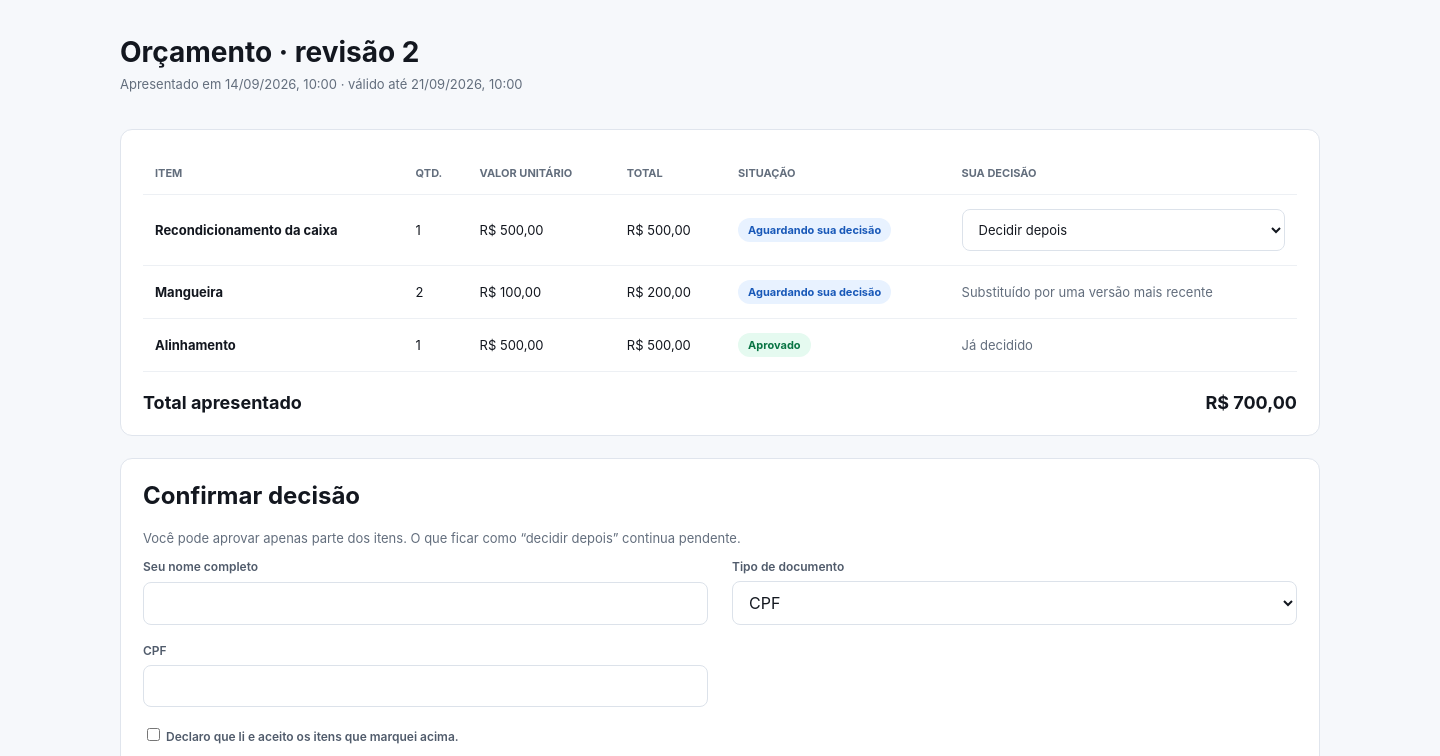
Test: replay reconhecido pelo backend é informado sem alarme
Select "Recusar" in the dropdown named "Decisão para Recondicionamento da caixa" at x=1123, y=230, box left=962, top=209, right=1285, bottom=251
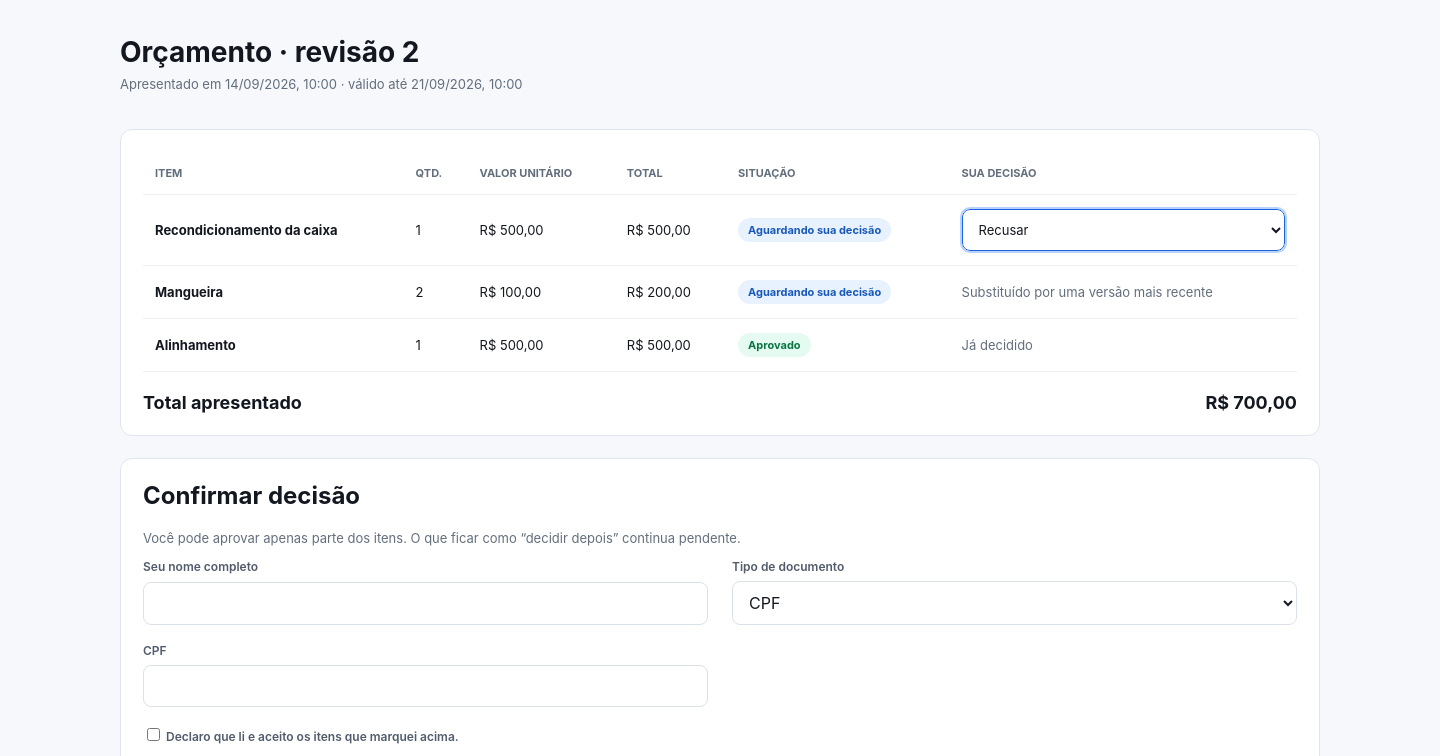
Type "José da Silva" into the field labelled "Seu nome completo" at x=426, y=603, box left=143, top=582, right=708, bottom=625
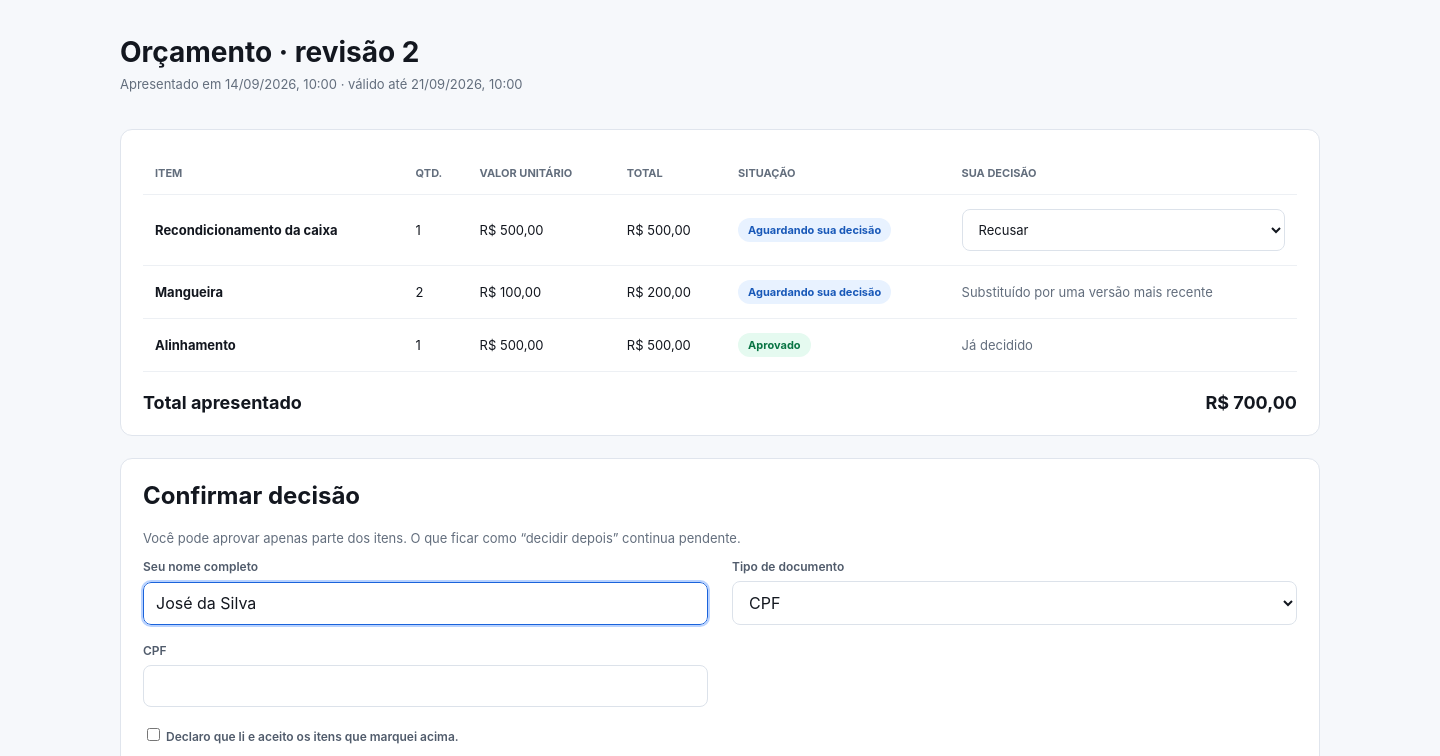
Type "12345678901" into the field labelled "CPF" at x=426, y=686, box left=143, top=665, right=708, bottom=707
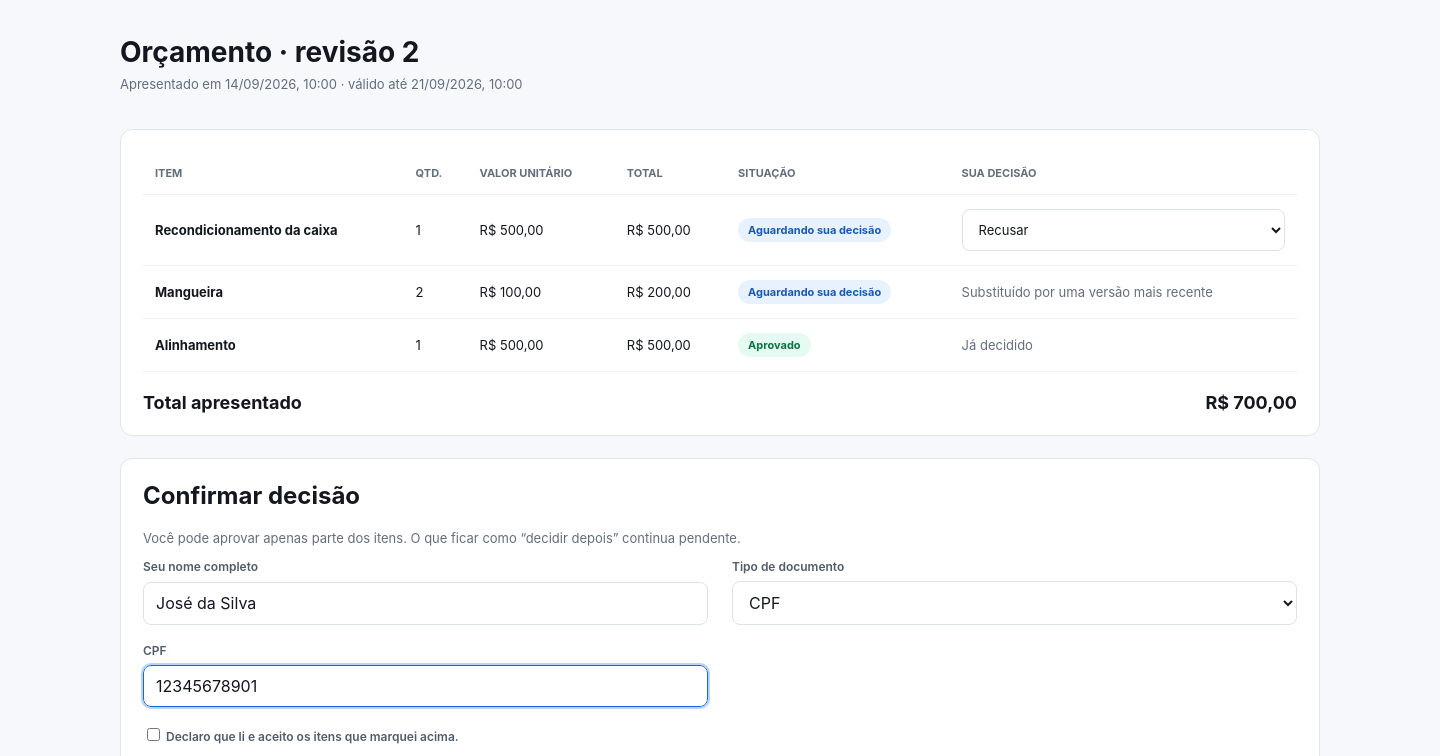
Click the checkbox labelled "Declaro que li e aceito os itens que marquei acima." at x=154, y=734, box left=147, top=728, right=160, bottom=741
(page scrolled)
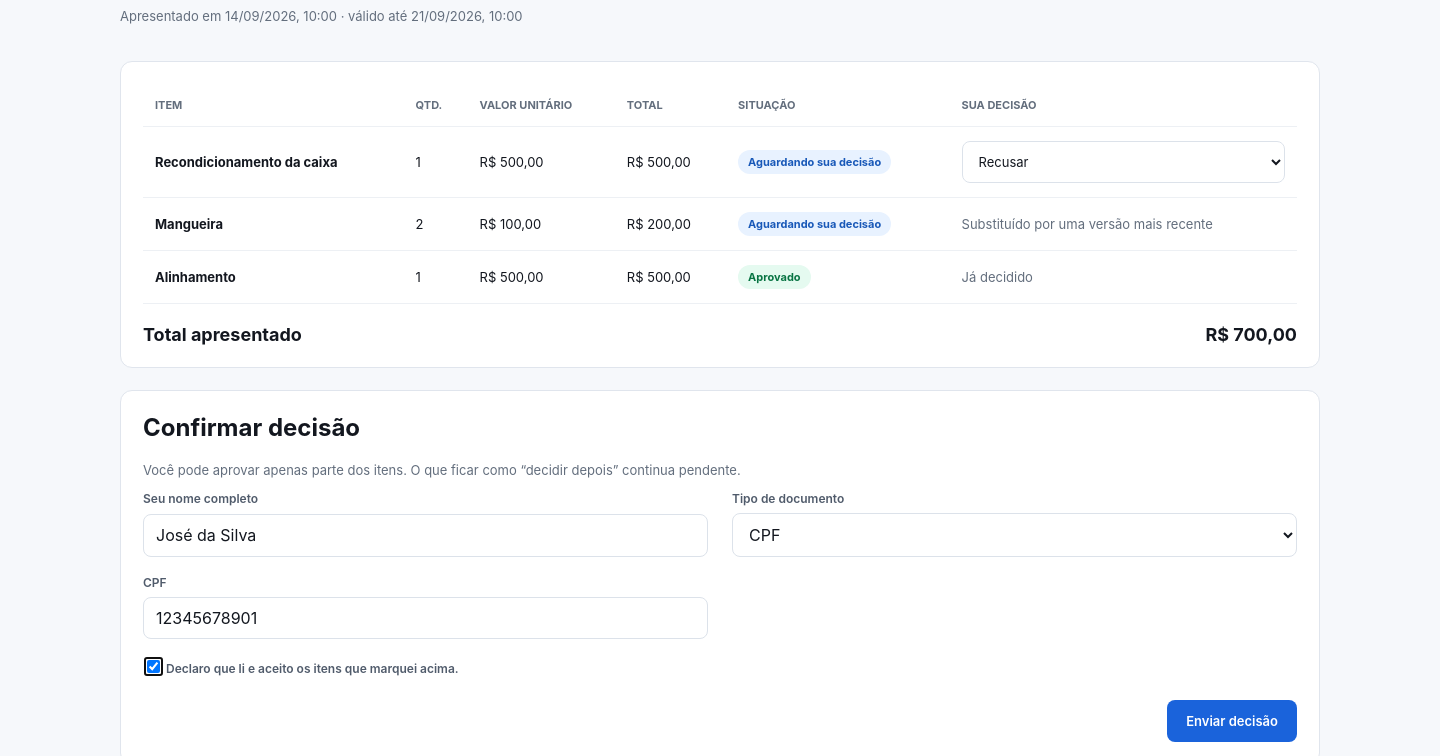
Click the button "Enviar decisão" at x=1232, y=721, box left=1167, top=700, right=1297, bottom=742
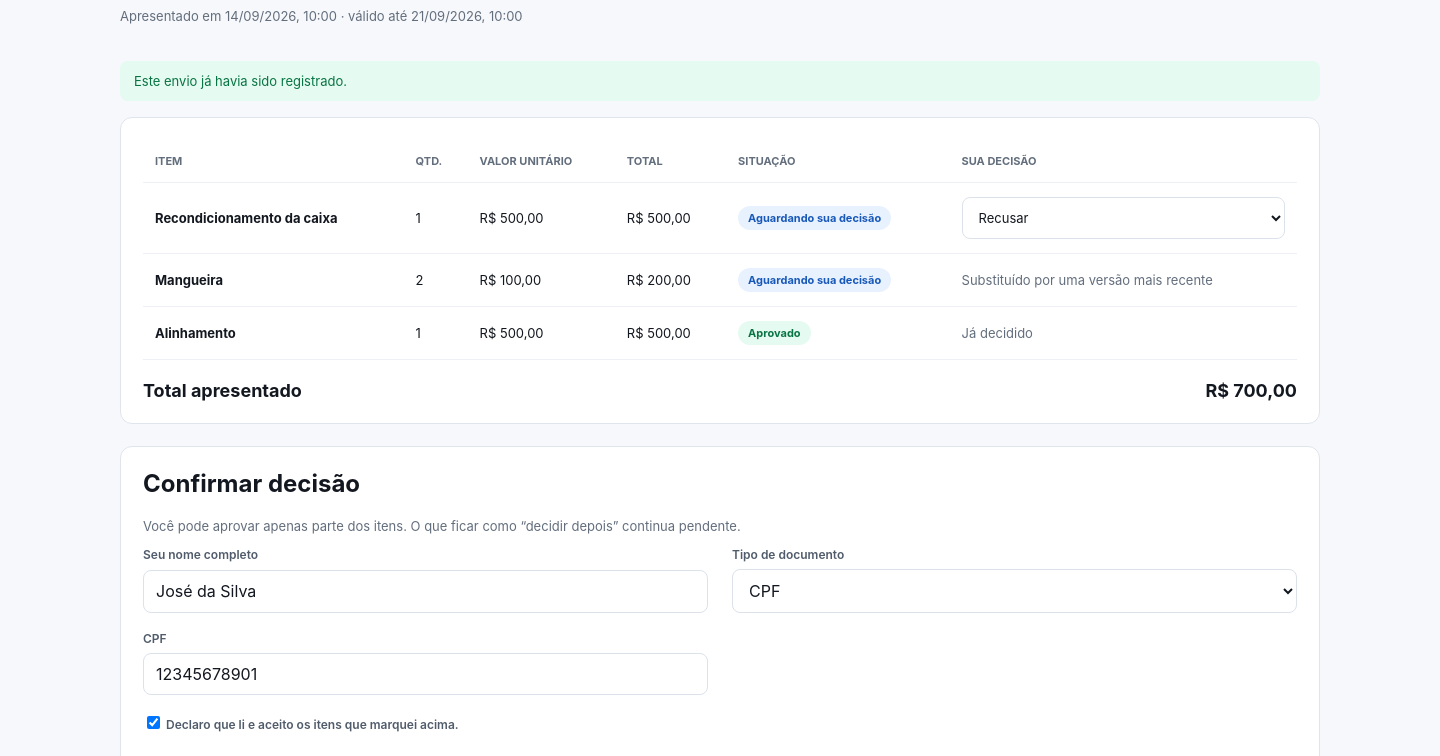
Now the message shows "já havia sido registrado", box left=134, top=73, right=347, bottom=89
